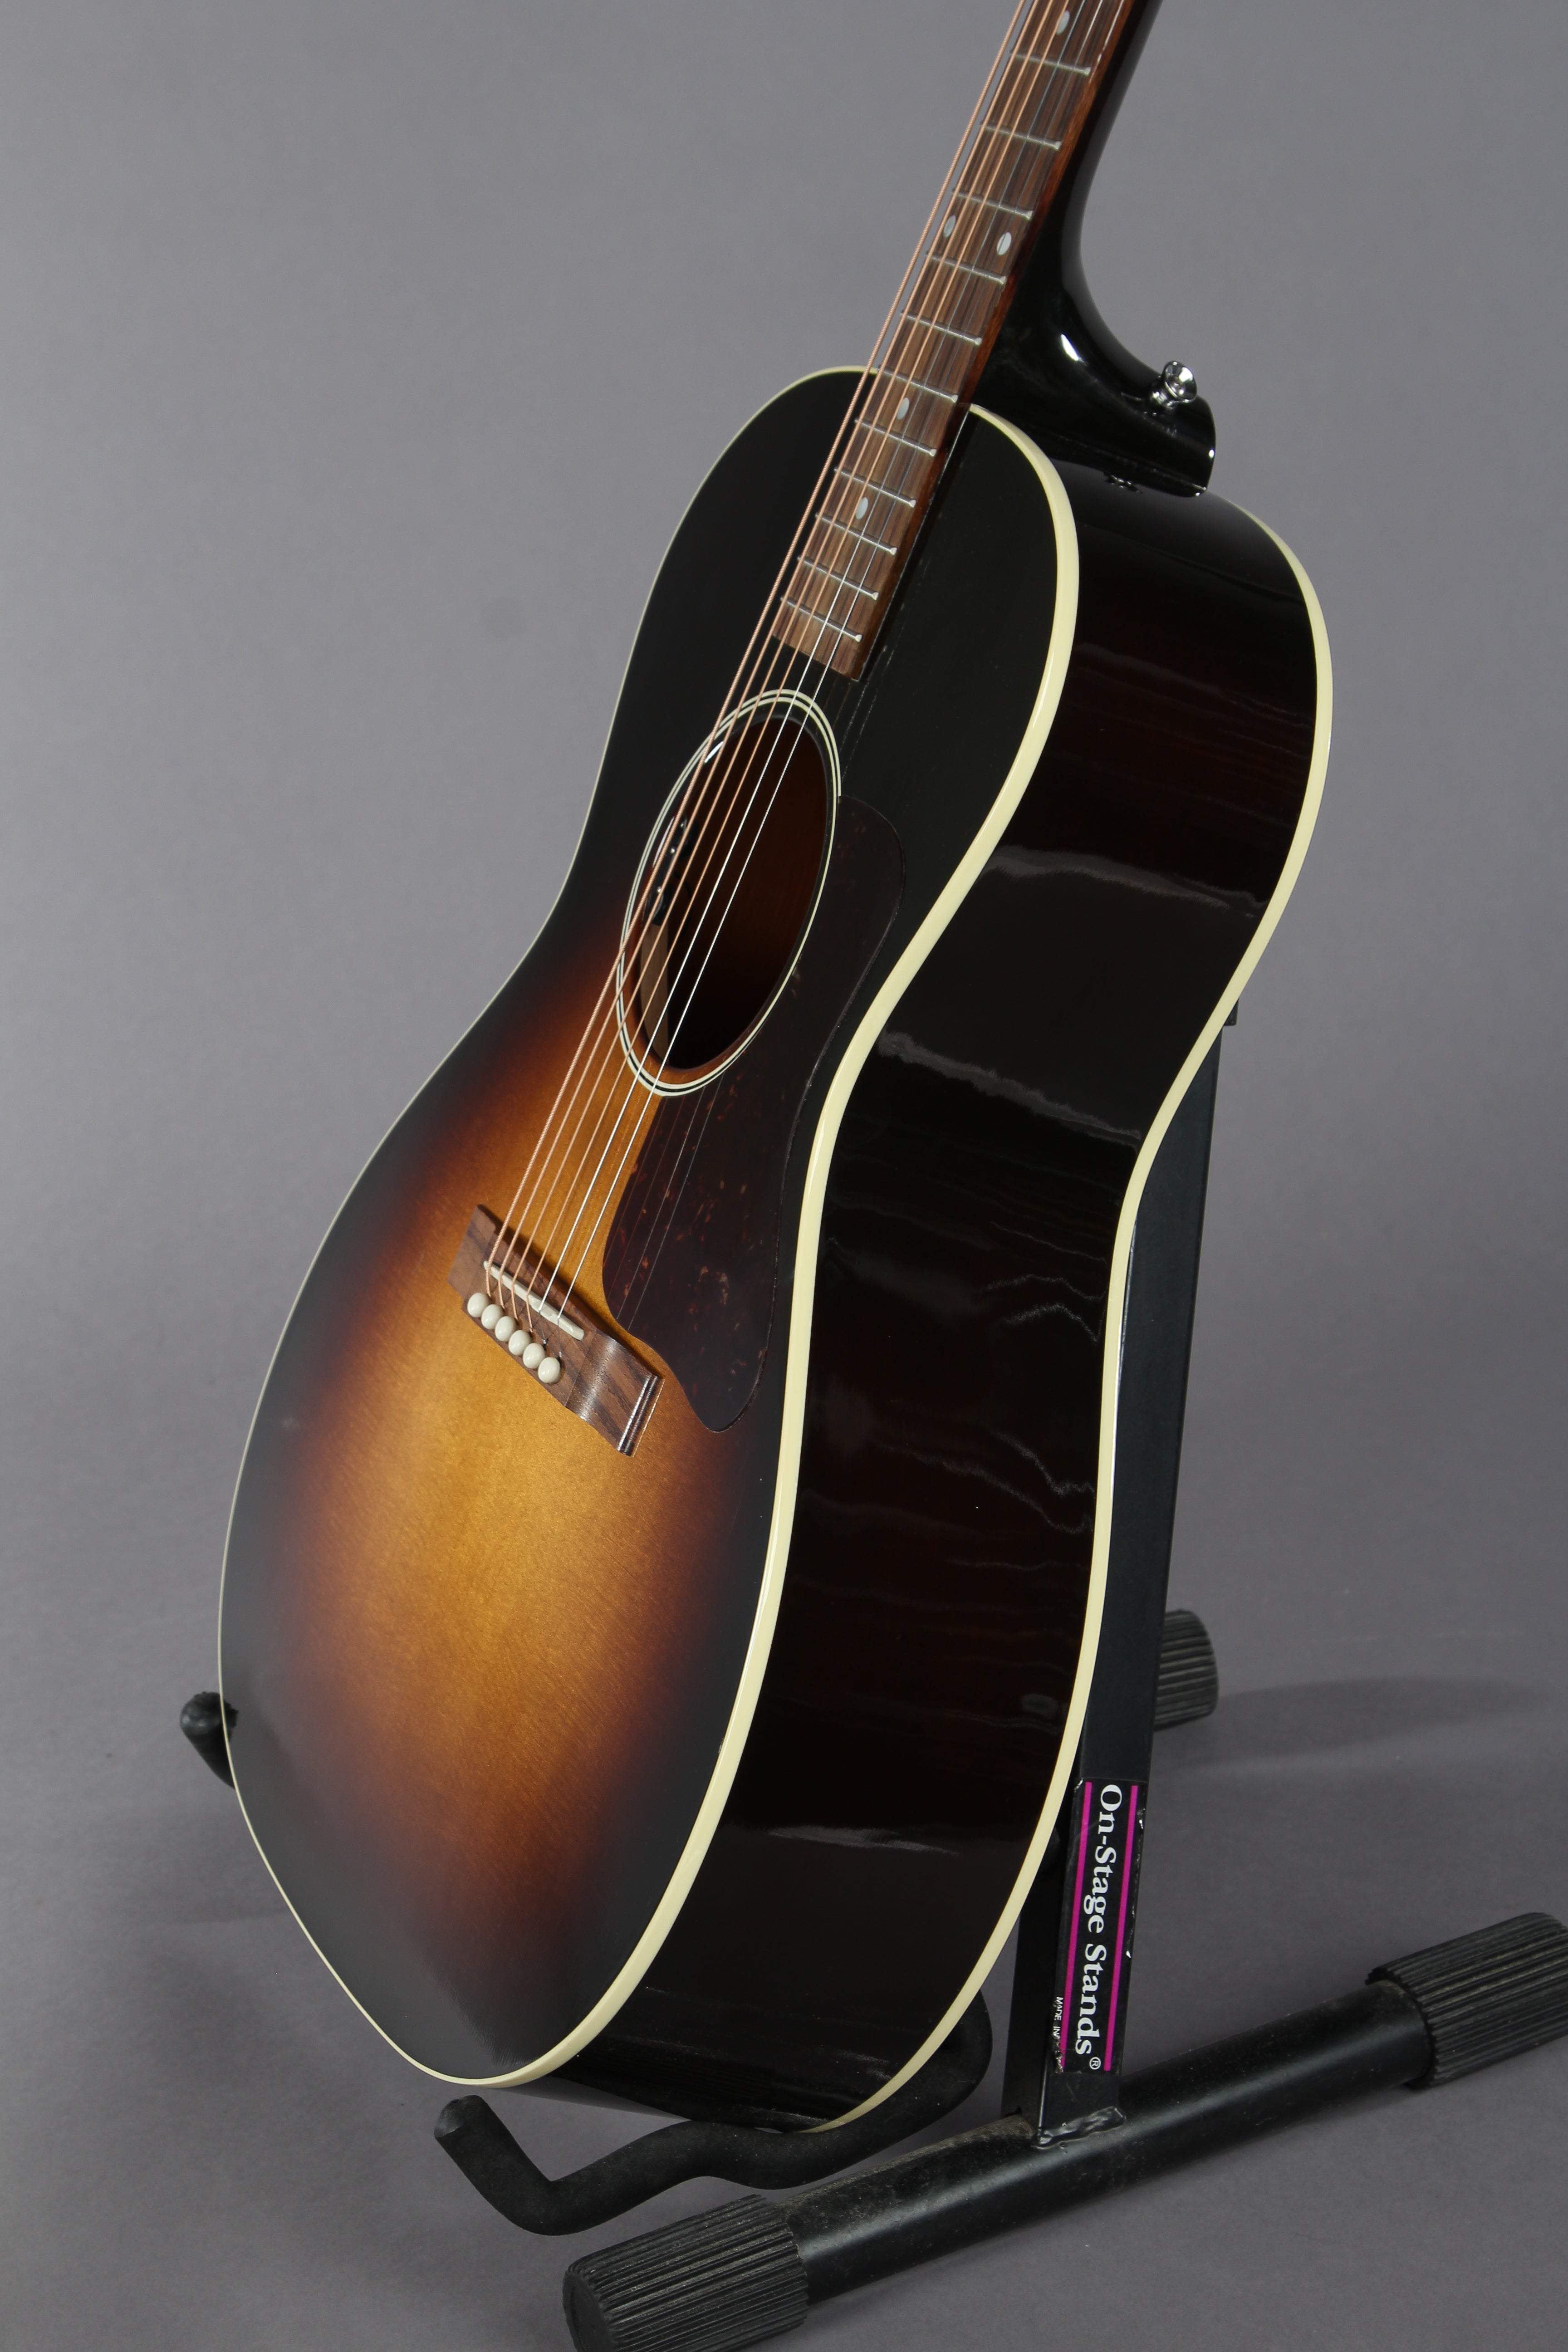guitar: (196, 0, 1353, 2317)
